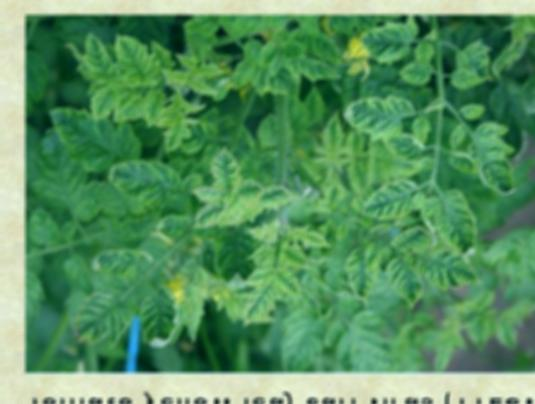Tomato leaf yellow virus: (42, 106, 150, 181), (104, 157, 179, 218), (70, 297, 135, 351), (461, 137, 520, 196), (338, 94, 402, 146), (383, 250, 431, 318), (432, 184, 478, 254), (339, 224, 377, 304), (141, 284, 185, 352), (418, 254, 487, 295), (227, 282, 280, 335), (360, 175, 419, 222), (353, 26, 421, 65), (91, 241, 154, 280), (205, 140, 241, 200), (284, 53, 349, 83), (78, 38, 120, 84), (87, 78, 126, 125), (116, 34, 151, 86), (255, 179, 302, 216), (273, 264, 314, 303), (188, 197, 233, 232), (229, 52, 256, 93), (143, 89, 168, 126), (246, 266, 272, 295), (187, 80, 221, 100)
